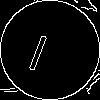I: (25, 25, 54, 73)
